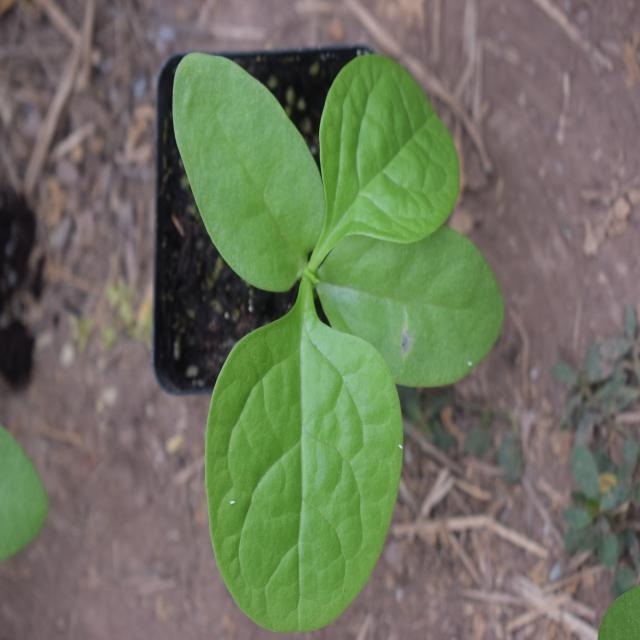Ceylon spinach: (175, 48, 496, 598)
